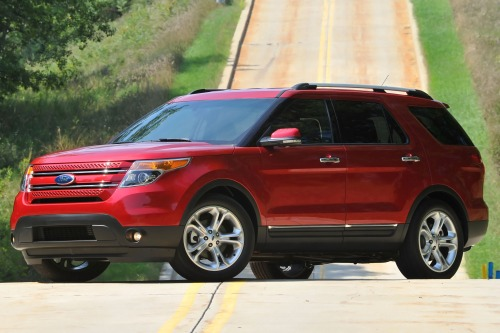Ford Explorer: (10, 83, 488, 281)
